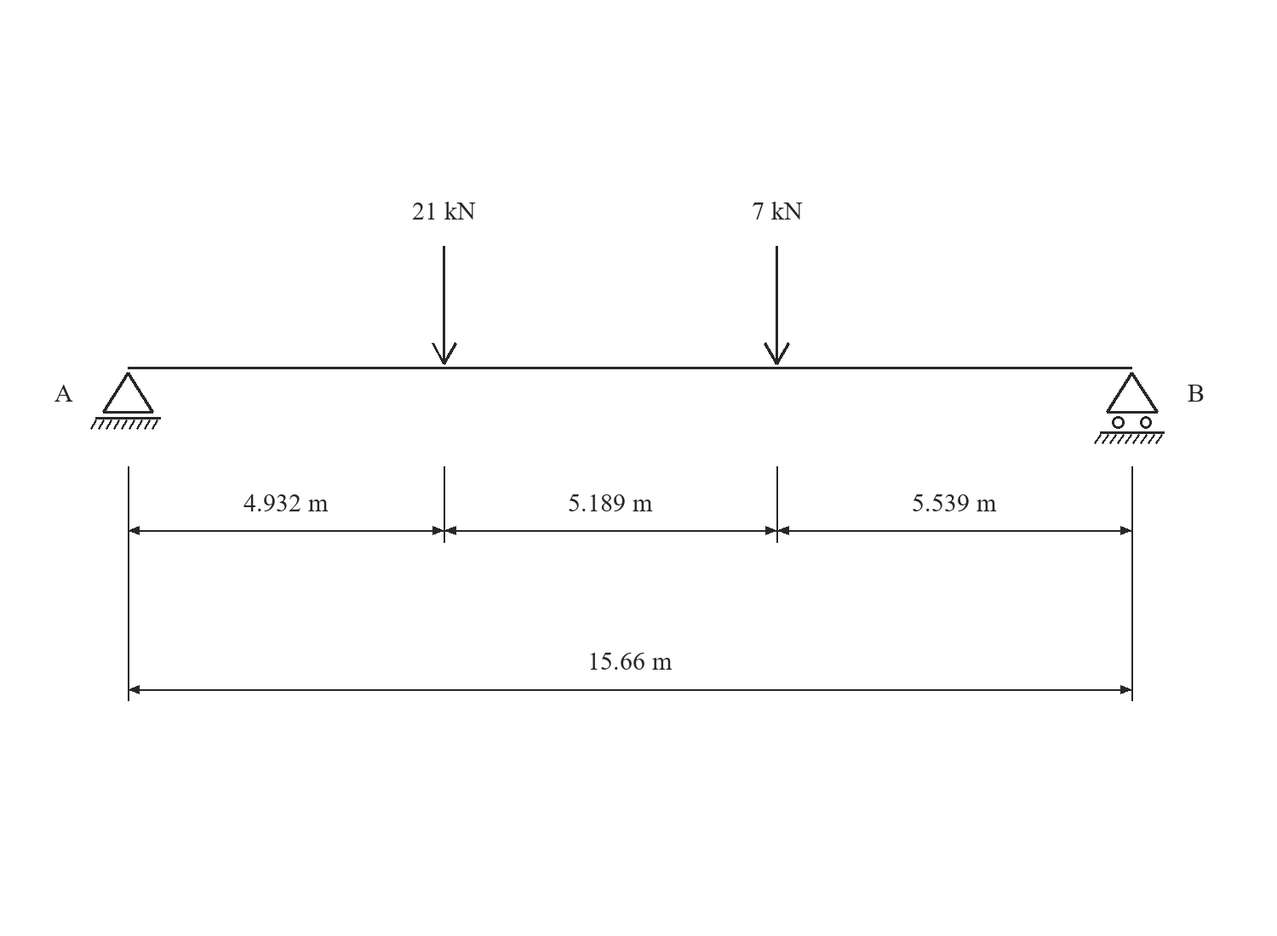pin_support: (90, 372, 161, 430)
point_load: (764, 246, 790, 365), (432, 246, 457, 365)
roller_support: (1094, 372, 1165, 444)
